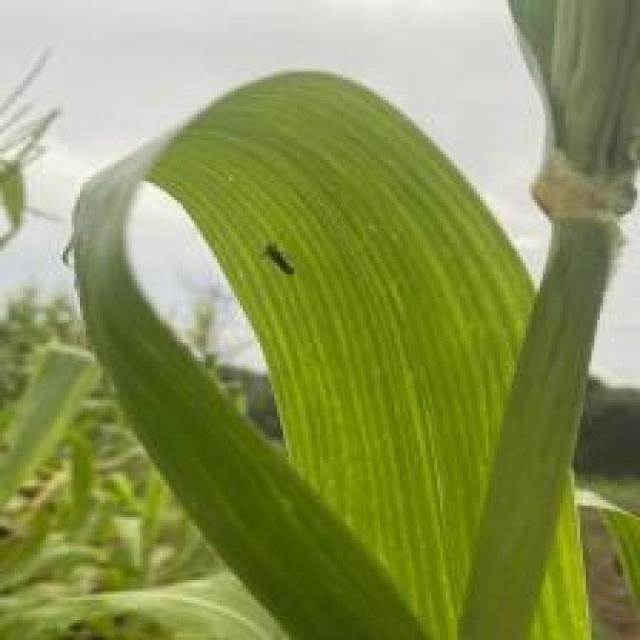Plaga: (252, 234, 321, 308)
